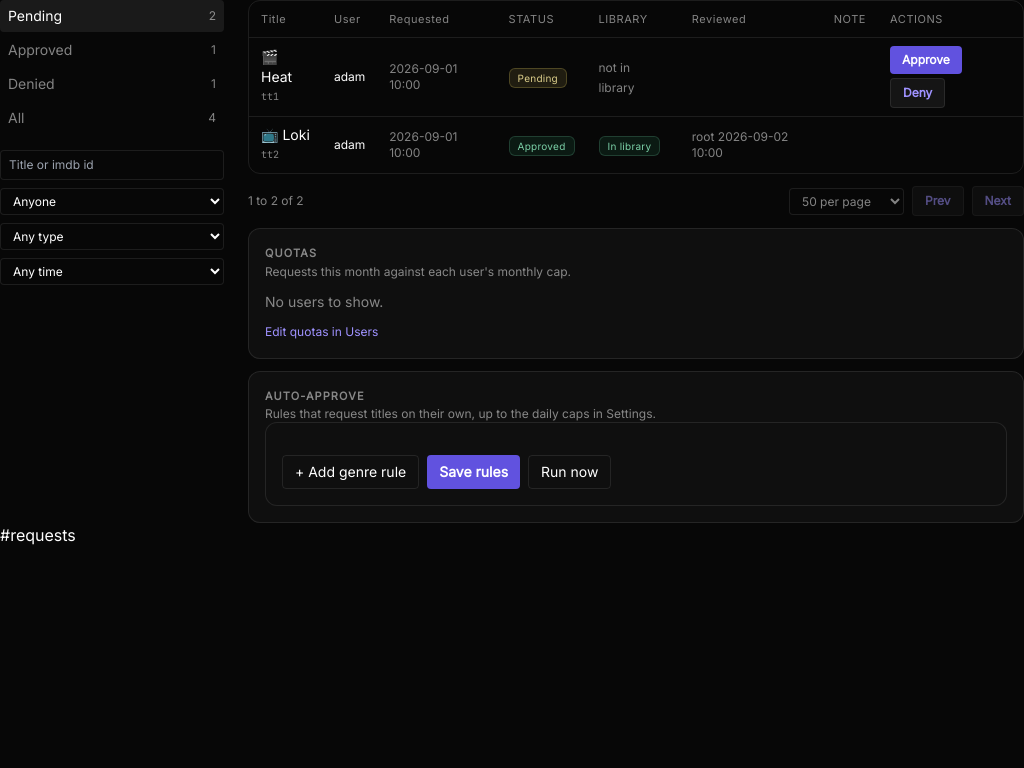
Test: Requests tab › clicking a title opens the drawer and updates the hash
Click the text "Heat" at (277, 76), box [261,68,292,85]
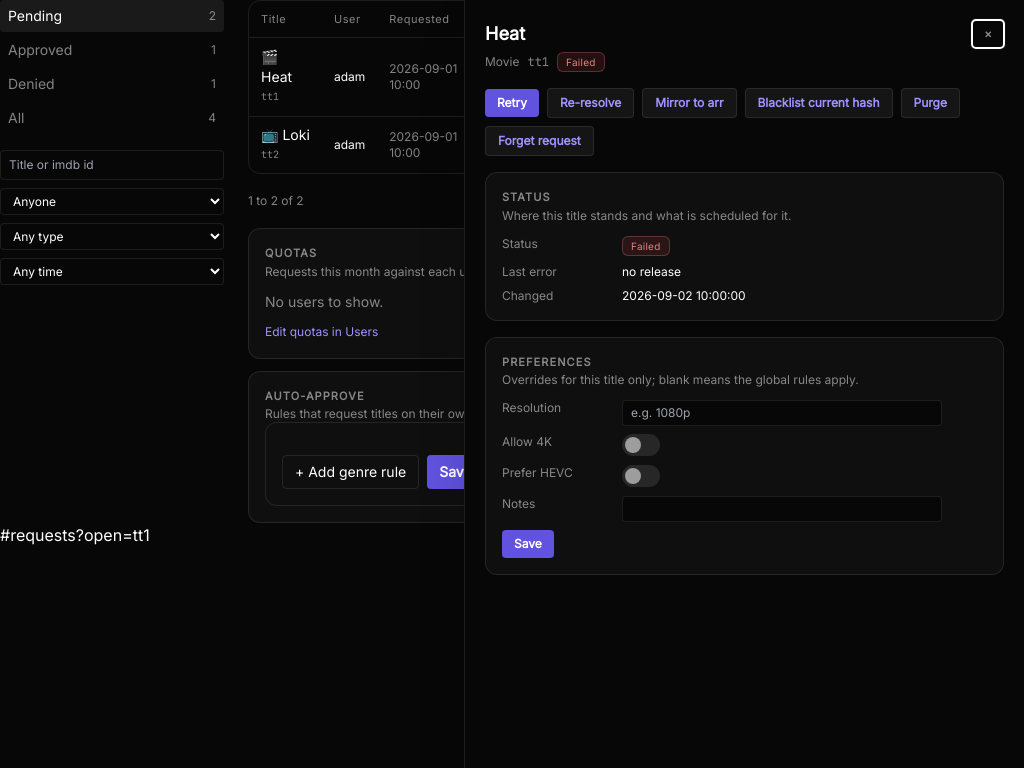
Expected: the dialog named "Title details" is shown, [464,0,1023,767]
Expected: the text with test id "hash-probe" shows "open=tt1", [0,525,150,545]
